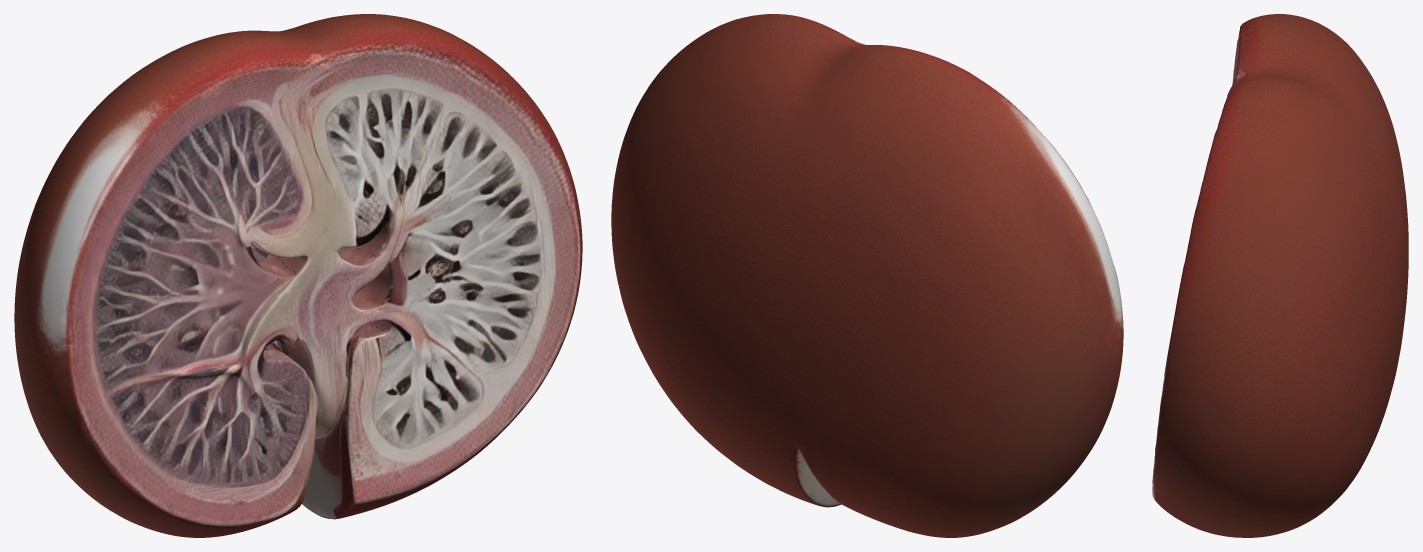
The model's file is vet_v2_organ_dog_kidney.glb.
3 views of the same model, side by side, from view 1: azimuth 30°, elevation 25°; view 2: azimuth 150°, elevation 25°; view 3: azimuth 270°, elevation 25° (orthographic). The views are drawn at different scales.
Parts seen in each view (by area): view 1: model; view 2: model; view 3: model.
Part boxes in pixels (bbox=[...]): model: bbox=[14, 14, 582, 537]; model: bbox=[611, 14, 1123, 537]; model: bbox=[1152, 14, 1408, 537].
Bounding box in the file's own units: 1.9 × 1.68 × 0.8608.
1 material, 1 textured.
